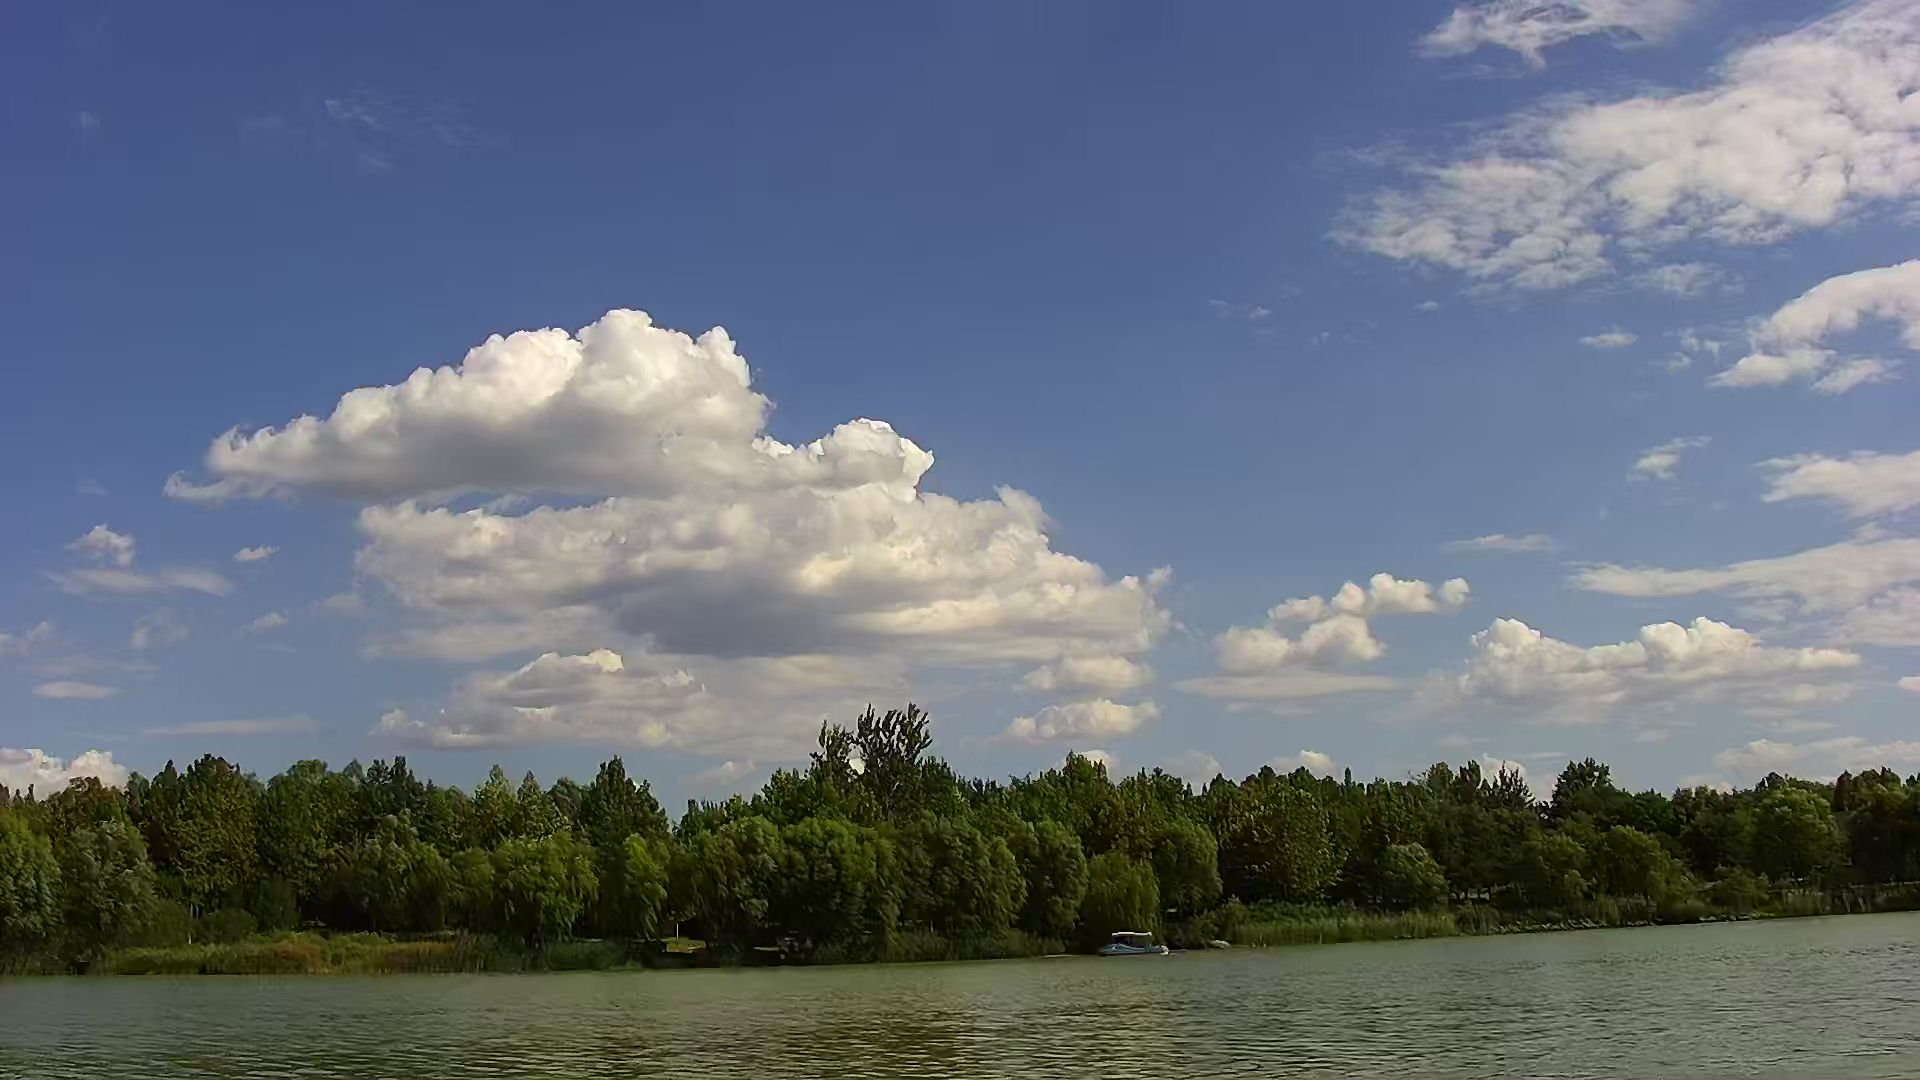boat: (1091, 922, 1174, 965)
